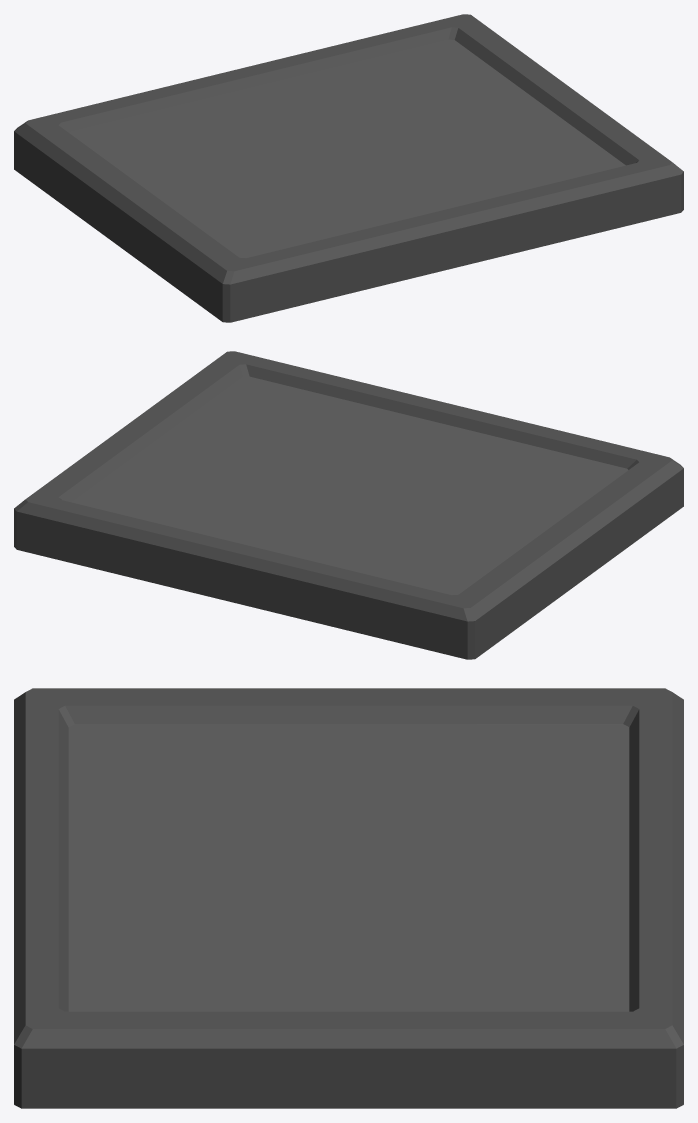
File: RoofAdd_1_B.fbx
The picture shows the model from 3 angles, top to bottom: view 1: azimuth 30°, elevation 25°; view 2: azimuth 150°, elevation 25°; view 3: azimuth 270°, elevation 25°; orthographic projection. The views are drawn at different scales.
Parts seen in each view (by area): view 1: RoofAdd_1_B; view 2: RoofAdd_1_B; view 3: RoofAdd_1_B.
Part boxes in pixels (x1=…): RoofAdd_1_B: x1=14, y1=14, x2=683, y2=322; RoofAdd_1_B: x1=14, y1=351, x2=683, y2=659; RoofAdd_1_B: x1=14, y1=688, x2=683, y2=1108.
Bounding box in the file's own units: 126 × 12.27 × 101.
